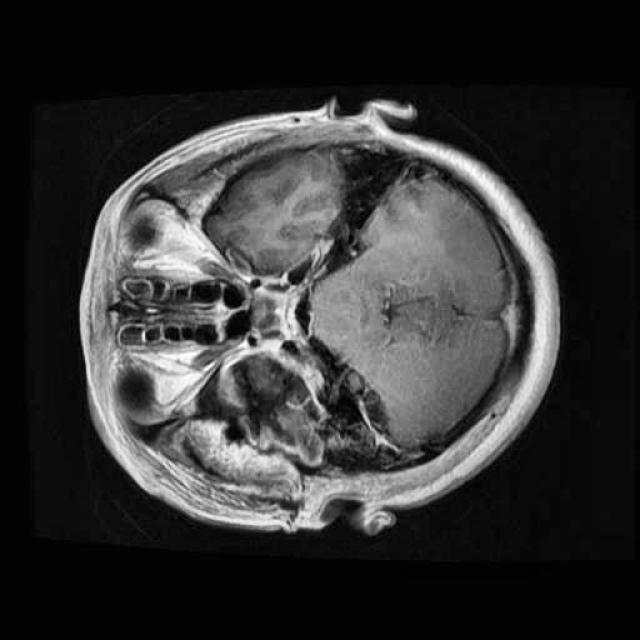Non-Tumor: (210, 330, 346, 479)
